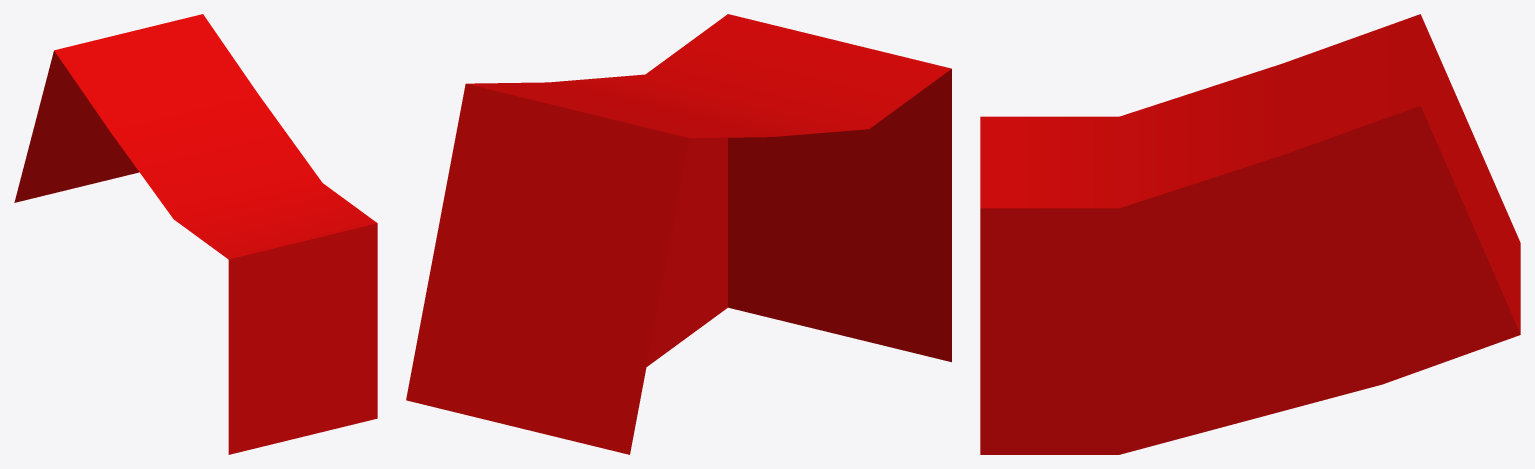
Rendered from tile 2.fbx.
3 renders of one model, left to right at view 1: azimuth 30°, elevation 25°; view 2: azimuth 150°, elevation 25°; view 3: azimuth 270°, elevation 25°, orthographic. The views are drawn at different scales.
Visible parts, largest first — view 1: pCube2; view 2: pCube2; view 3: pCube2.
Boxes of the visible parts, left/top/right/bottom form: pCube2: left=14, top=14, right=377, bottom=454; pCube2: left=406, top=14, right=951, bottom=454; pCube2: left=980, top=14, right=1520, bottom=454.
Size of the model in its own units: 5.28 by 9.38 by 13.16.
